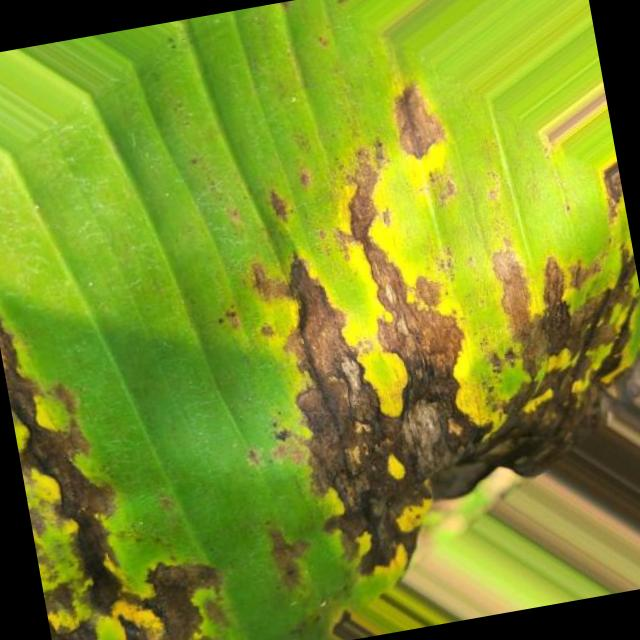Banana_Black_Sigatoka: (189, 113, 640, 562), (0, 259, 247, 640)
